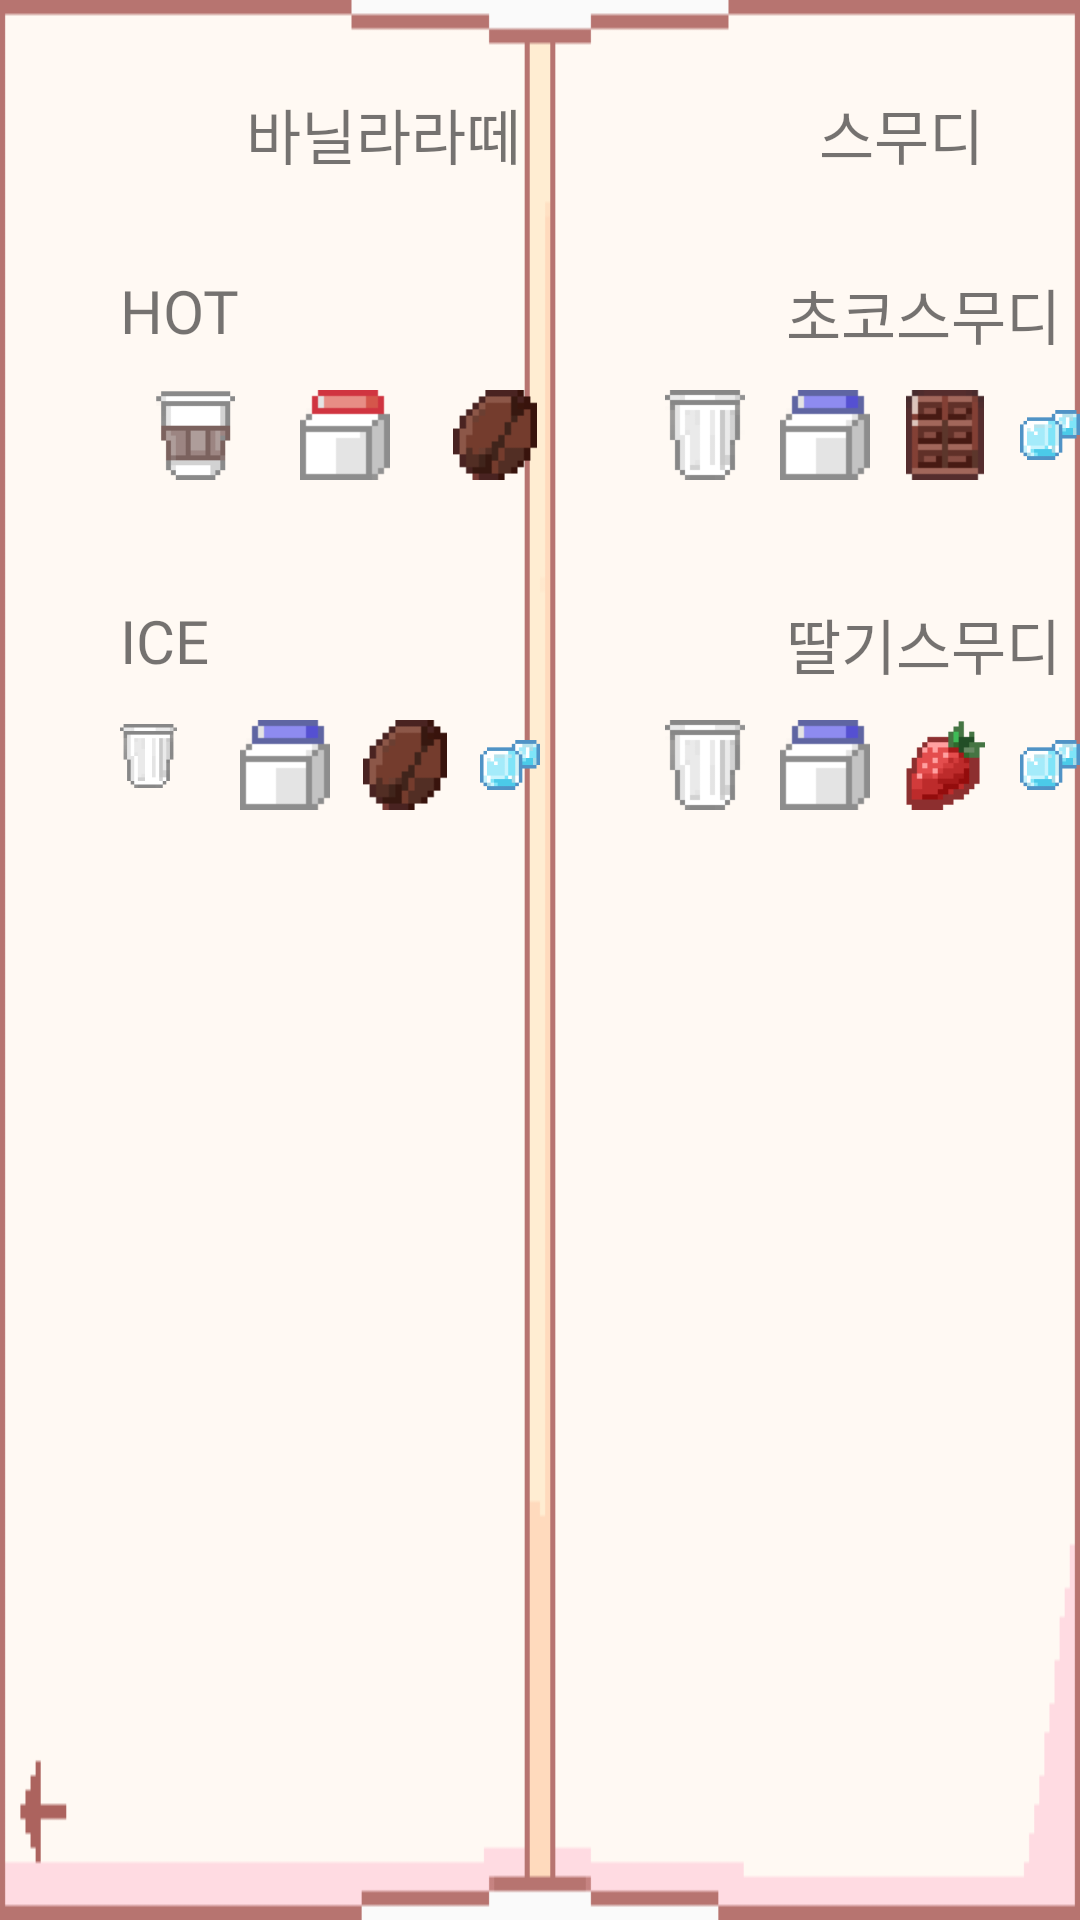

Where icons sit on this 1080x1920 app screen, as (x1, y1, x2, y2):
choco on: (906, 390, 984, 480)
coffee on: (453, 390, 540, 480), (363, 720, 447, 810)
coldmilk on: (780, 390, 870, 480), (240, 720, 330, 810), (780, 720, 870, 810)
hotcup on: (156, 391, 235, 480)
hotmilk on: (300, 390, 390, 480)
icecup on: (665, 390, 745, 480), (665, 720, 745, 810), (120, 724, 177, 788)
